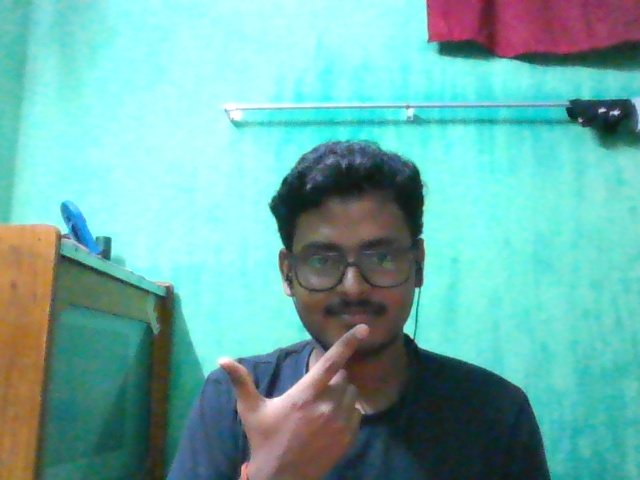ThnakYou: (216, 321, 371, 479)
